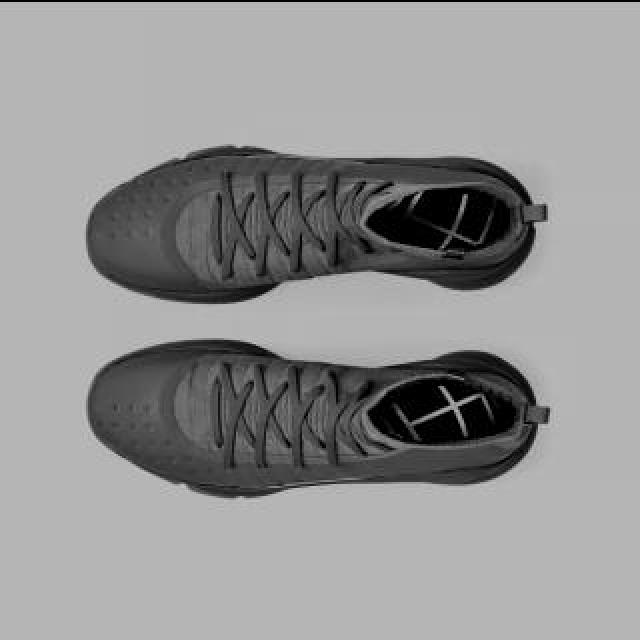shoe: (85, 338, 541, 498), (85, 142, 537, 302)
